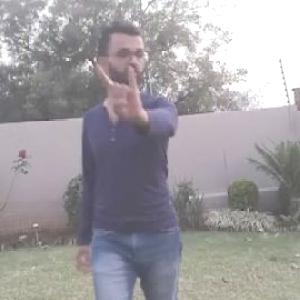takeoff-hand: (88, 57, 152, 122)
